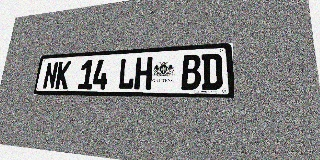1: (78, 60, 95, 89)
4: (92, 59, 110, 89)
B: (181, 54, 201, 90)
D: (202, 53, 223, 90)
H: (134, 57, 153, 89)
K: (55, 61, 71, 89)
L: (117, 58, 136, 89)
N: (42, 62, 59, 89)
